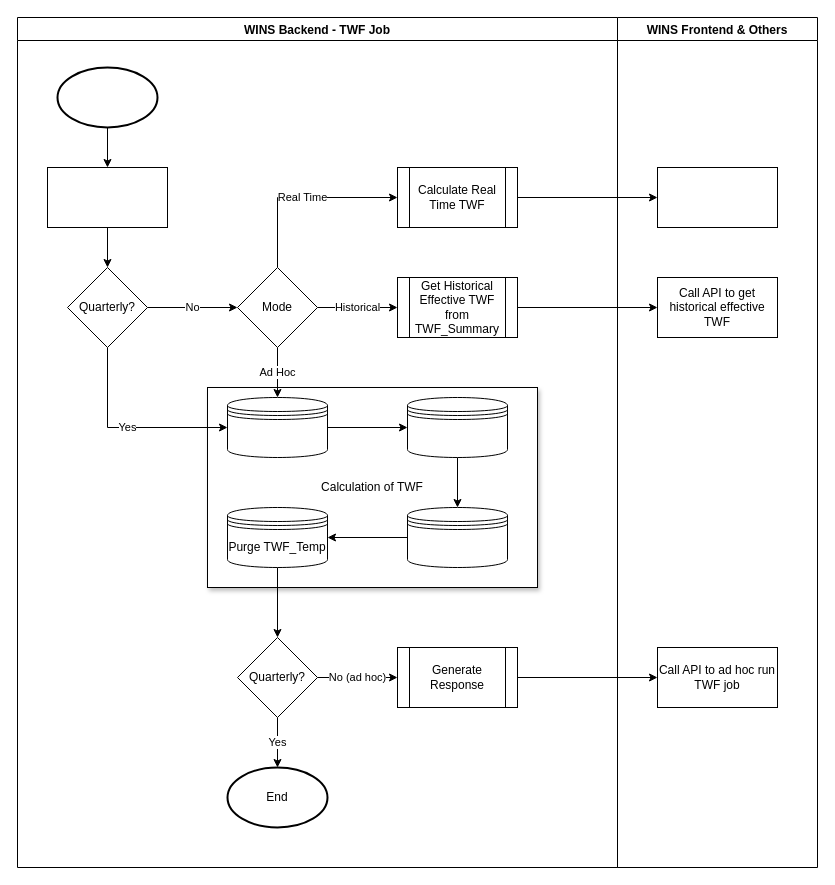
This 835x885 diagram has some shape labels left out. The centre of each missing label's shape, as x and y in pixels:
"Call API to get real time TWF" belongs at point (717, 197).
"Insert into TWF_Detail" belongs at point (457, 427).
"Insert into TWF_Summary" belongs at point (457, 537).
"Insert into TWF_Temp" belongs at point (277, 427).
"Start" belongs at point (107, 97).
"TWF Job" belongs at point (107, 197).
